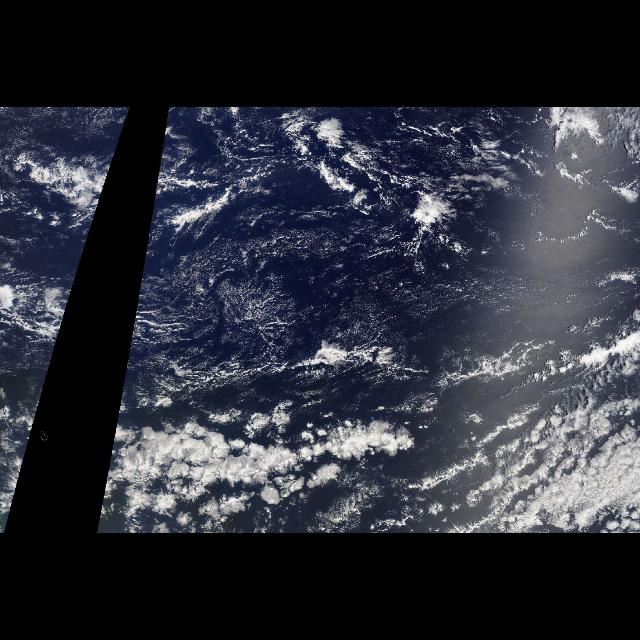Flower: (98, 386, 456, 530), (359, 154, 511, 262)
Gravel: (198, 256, 328, 366)
Sugar: (121, 216, 576, 374), (53, 217, 97, 356)
